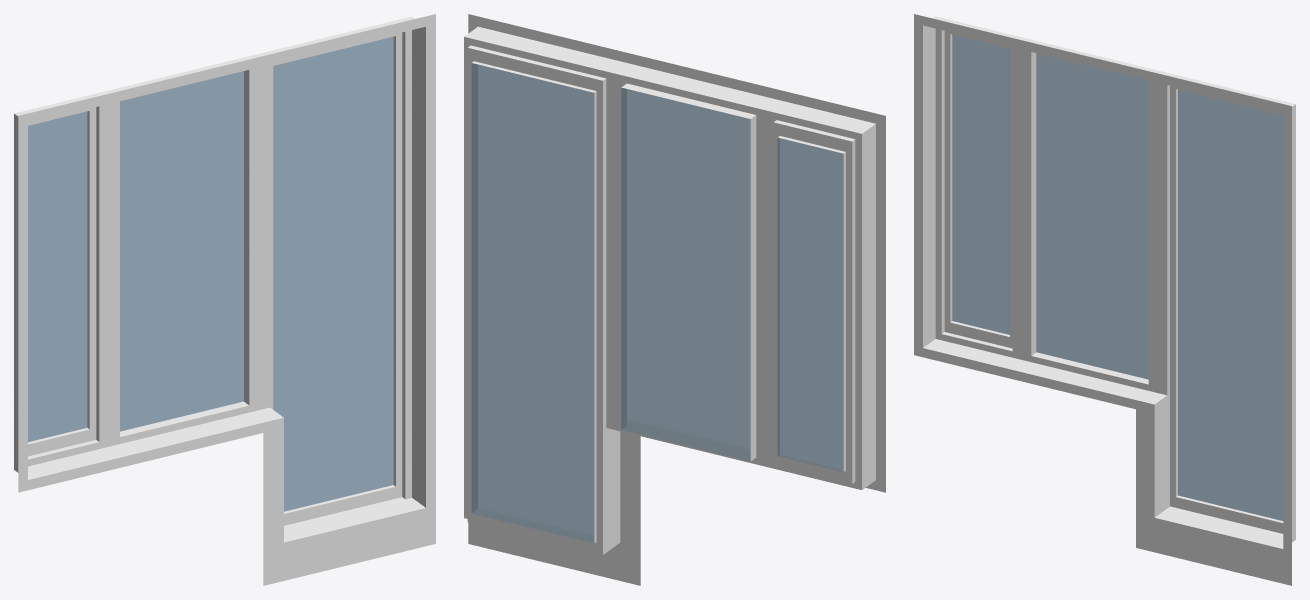
The model's file is p-44-window-balkon-2.fbx.
3 views of the same model, side by side, from view 1: azimuth 30°, elevation 25°; view 2: azimuth 150°, elevation 25°; view 3: azimuth 330°, elevation 25° (orthographic). The views are drawn at different scales.
Visible parts, largest first — view 1: window-balkon-2; view 2: window-balkon-2; view 3: window-balkon-2.
Part boxes in pixels (<box>): window-balkon-2: <box>14,14,435,585</box>; window-balkon-2: <box>464,14,885,585</box>; window-balkon-2: <box>914,14,1295,585</box>.
Bounding box in the file's own units: 190 × 230 × 15.32.
